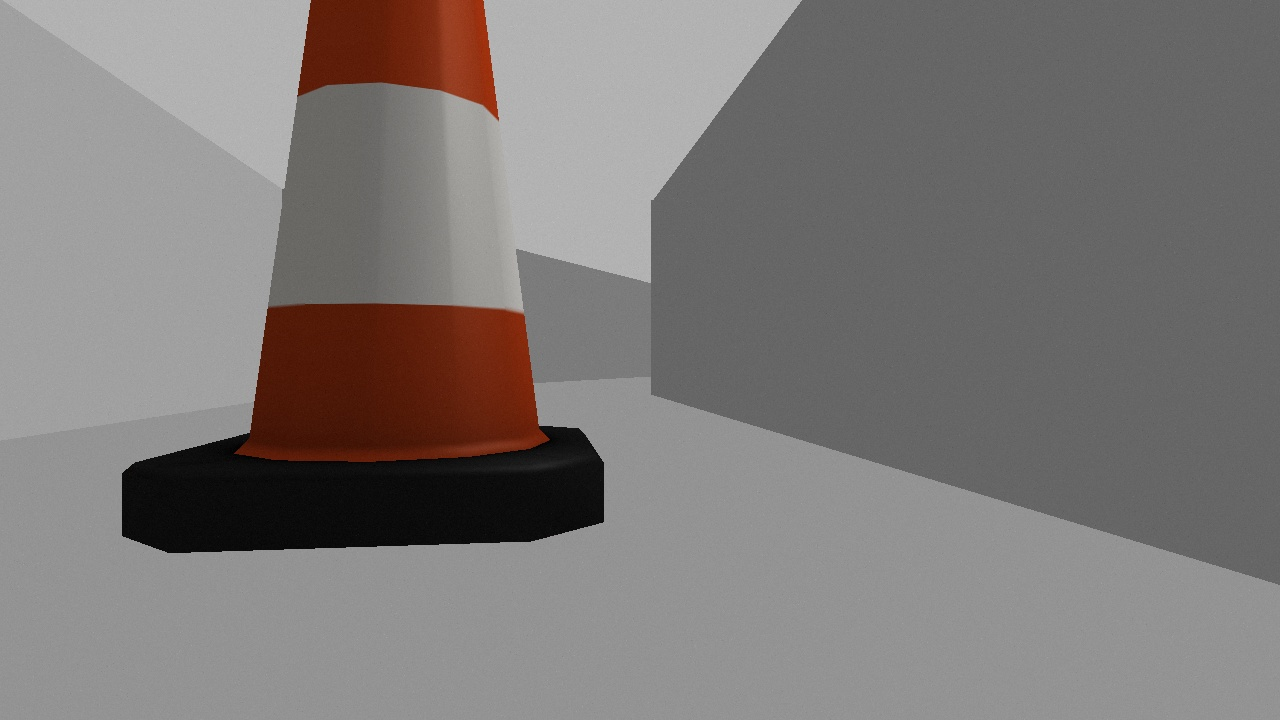barricade: (118, 1, 607, 552)
